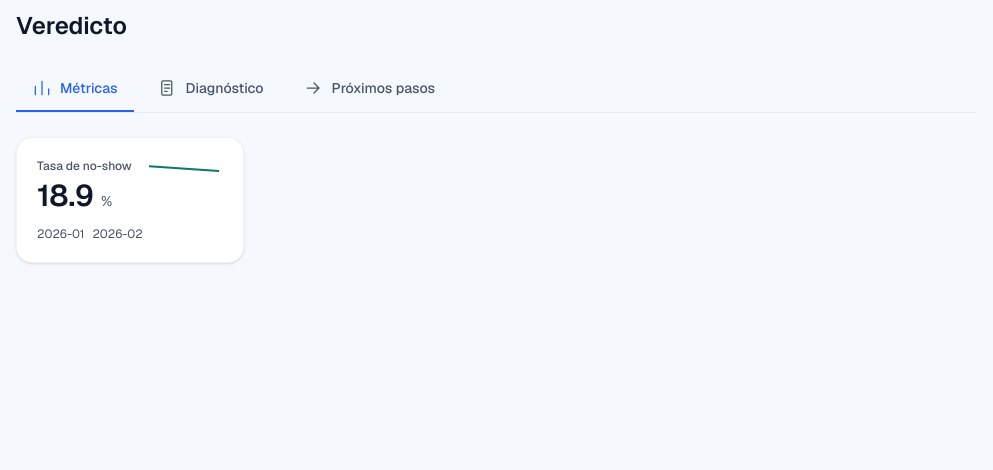
Scenario: Veredicto (task 2.6) › switches to Próximos pasos when its nav item is clicked, rendering the real ProximosPasosView
Click the button "Próximos pasos". click: (369, 89)
box: [288,66,451,112]
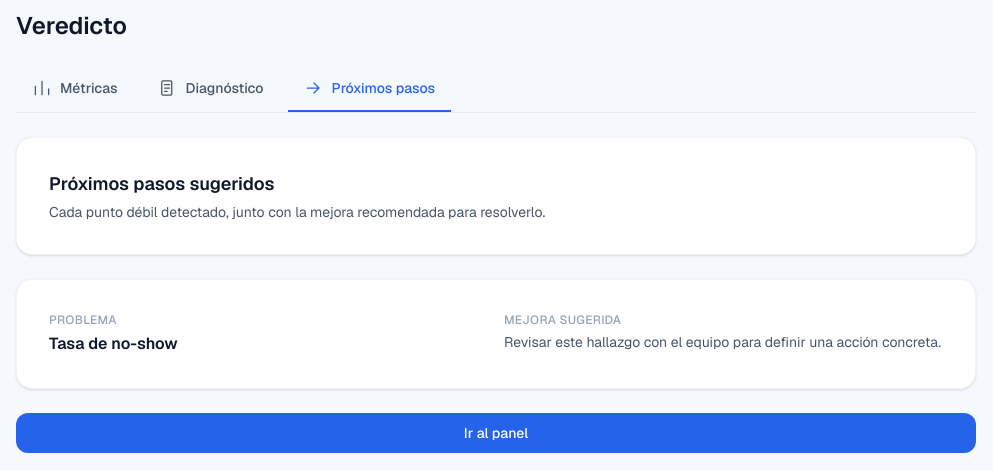
Expected: the heading "Tasa de no-show" is shown, [49,333,178,354]
Now the heading "Próximos pasos sugeridos" is shown, box [49,172,274,195]
Now the text "Revisar este hallazgo con el equipo" is shown, box [504,333,941,351]
